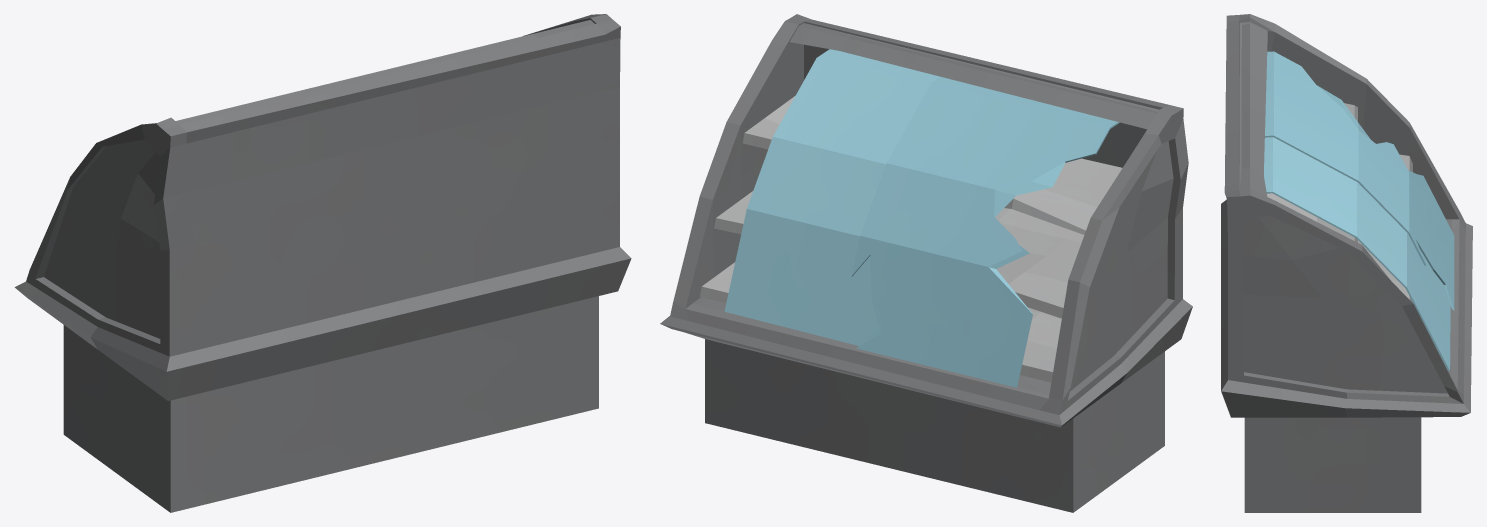
File: freezer_2.glb
The picture shows the model from 3 angles, left to right: view 1: azimuth 30°, elevation 25°; view 2: azimuth 150°, elevation 25°; view 3: azimuth 270°, elevation 25°; orthographic projection. The views are drawn at different scales.
Parts seen in each view (by area): view 1: freezer_2; view 2: freezer_2, glassA_freezer_2, glassb_freezer_2; view 3: freezer_2, glassA_freezer_2, glassb_freezer_2.
Boxes of the visible parts, x1,y1,x2,y2 form: freezer_2: (14, 14, 631, 512); freezer_2: (660, 14, 1192, 512); glassA_freezer_2: (851, 77, 1119, 387); glassb_freezer_2: (724, 49, 940, 345); freezer_2: (1221, 14, 1472, 512); glassA_freezer_2: (1265, 51, 1454, 310); glassb_freezer_2: (1264, 137, 1450, 370).
Size of the model in its own units: 1.35 by 1.08 by 0.76.
Materials: 1 (1 with a texture image).
